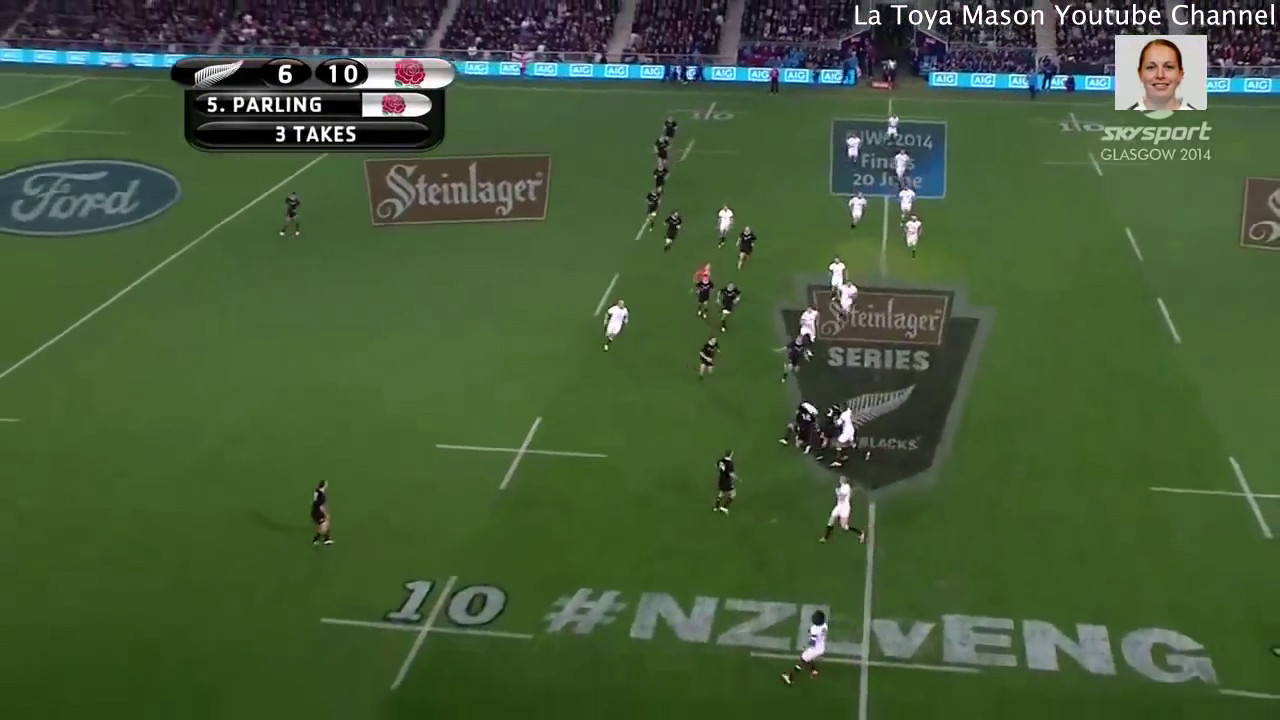10_metre: (315, 570, 546, 691), (427, 411, 620, 489), (1141, 449, 1280, 545), (1039, 147, 1164, 179), (664, 96, 757, 131), (1028, 105, 1119, 137), (640, 136, 744, 161)
maul: (781, 396, 866, 464)
player: (816, 472, 872, 551), (777, 604, 826, 690), (299, 472, 339, 547), (709, 444, 743, 522), (591, 293, 634, 350), (269, 184, 311, 242), (773, 332, 809, 384), (708, 282, 744, 332), (785, 396, 818, 444), (695, 328, 723, 378), (833, 404, 860, 452), (711, 201, 736, 250), (843, 188, 868, 237), (692, 261, 713, 318), (734, 218, 755, 274), (643, 184, 664, 232), (661, 208, 681, 256), (795, 304, 819, 344), (822, 254, 849, 287), (838, 278, 858, 315), (650, 161, 672, 194), (843, 128, 863, 163)
